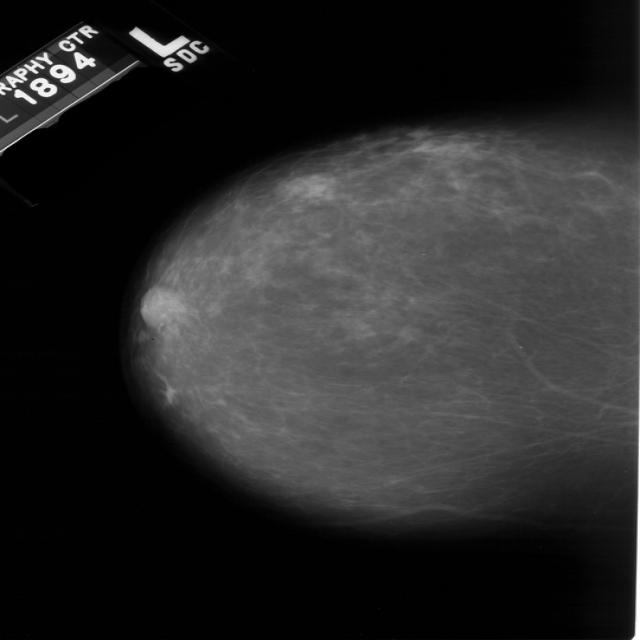tumour: (272, 172, 330, 201)
